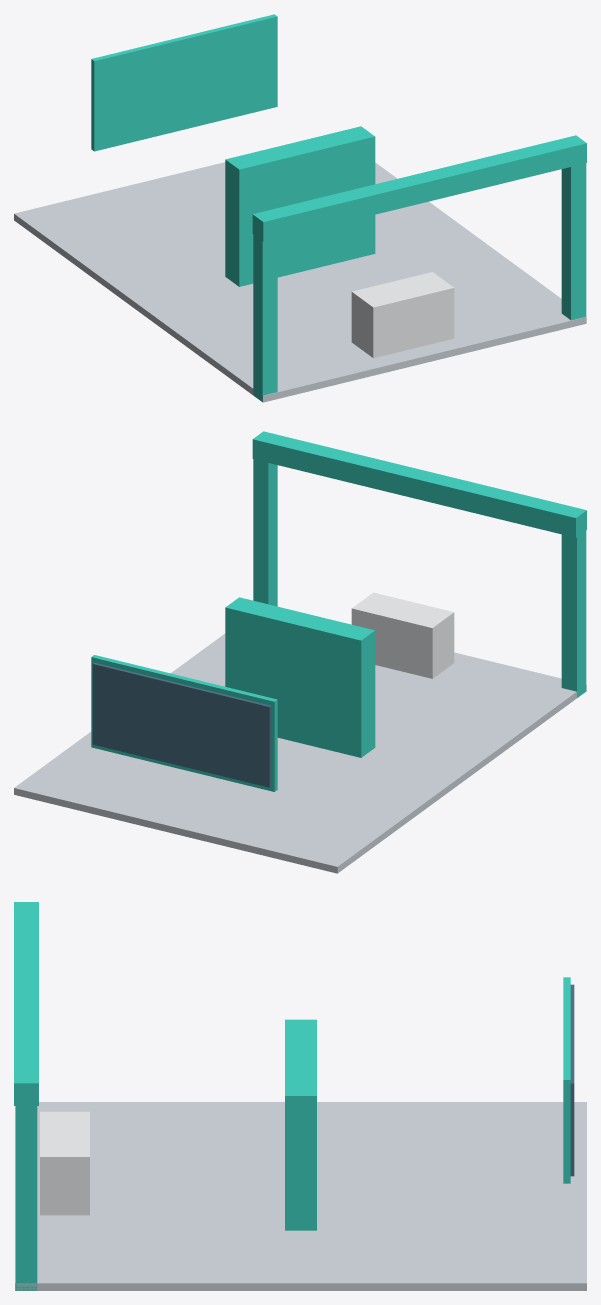
3 renders of one model, top to bottom at view 1: azimuth 30°, elevation 25°; view 2: azimuth 150°, elevation 25°; view 3: azimuth 270°, elevation 25°, orthographic. The views are drawn at different scales.
Visible parts, largest first — view 1: Exhibition Booth Concept; view 2: Exhibition Booth Concept; view 3: Exhibition Booth Concept.
Boxes of the visible parts, left/top/right/bottom form: Exhibition Booth Concept: left=14, top=14, right=586, bottom=402; Exhibition Booth Concept: left=14, top=431, right=586, bottom=873; Exhibition Booth Concept: left=14, top=902, right=586, bottom=1290.
Size of the model in its own units: 6 by 3.2 by 8.01.
